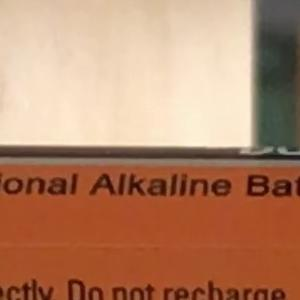keyword: (79, 163, 147, 206)
